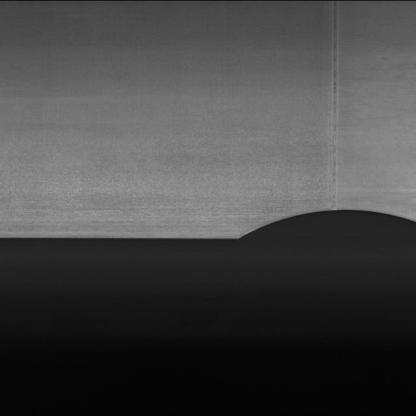crescent_gap: (236, 203, 416, 265)
welding_line: (320, 0, 349, 215)
